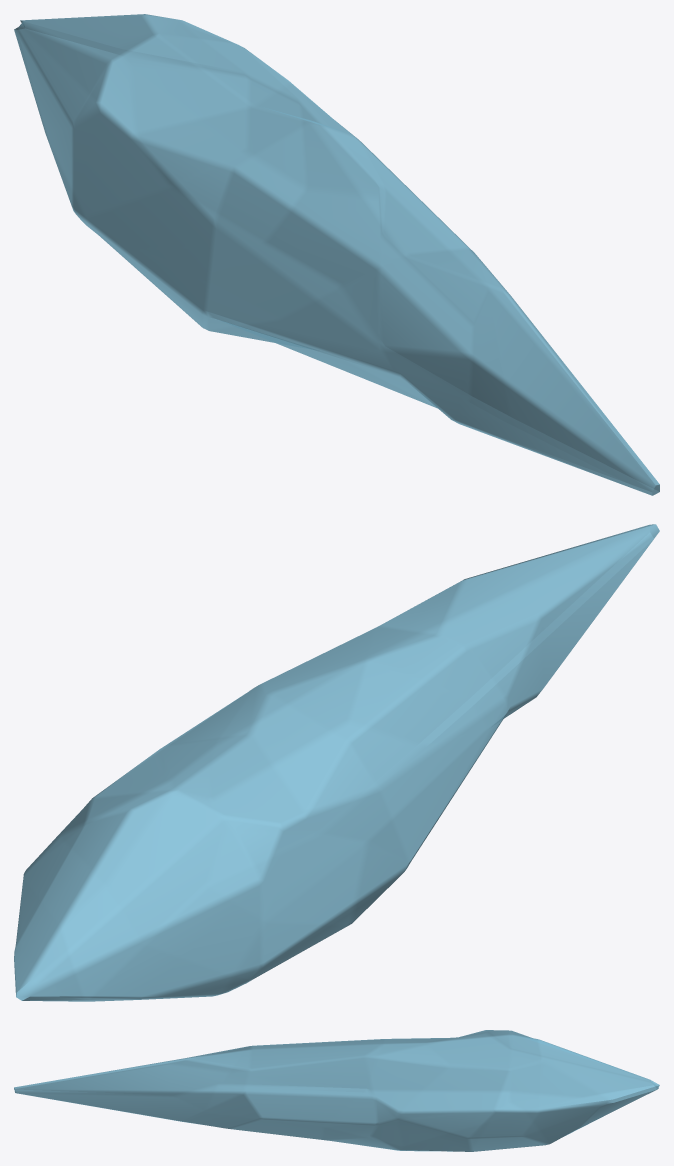
The model's file is ice_attack.fbx.
The picture shows the model from 3 angles, top to bottom: view 1: azimuth 30°, elevation 25°; view 2: azimuth 150°, elevation 25°; view 3: azimuth 270°, elevation 25°; orthographic projection. The views are drawn at different scales.
Visible parts, largest first — view 1: pCone1; view 2: pCone1; view 3: pCone1.
Part boxes in pixels (box(x1,y1,x2,y2)): pCone1: box(14, 14, 659, 495); pCone1: box(14, 524, 659, 1001); pCone1: box(14, 1030, 659, 1151).
Size of the model in its own units: 10.99 by 10.07 by 54.89.
